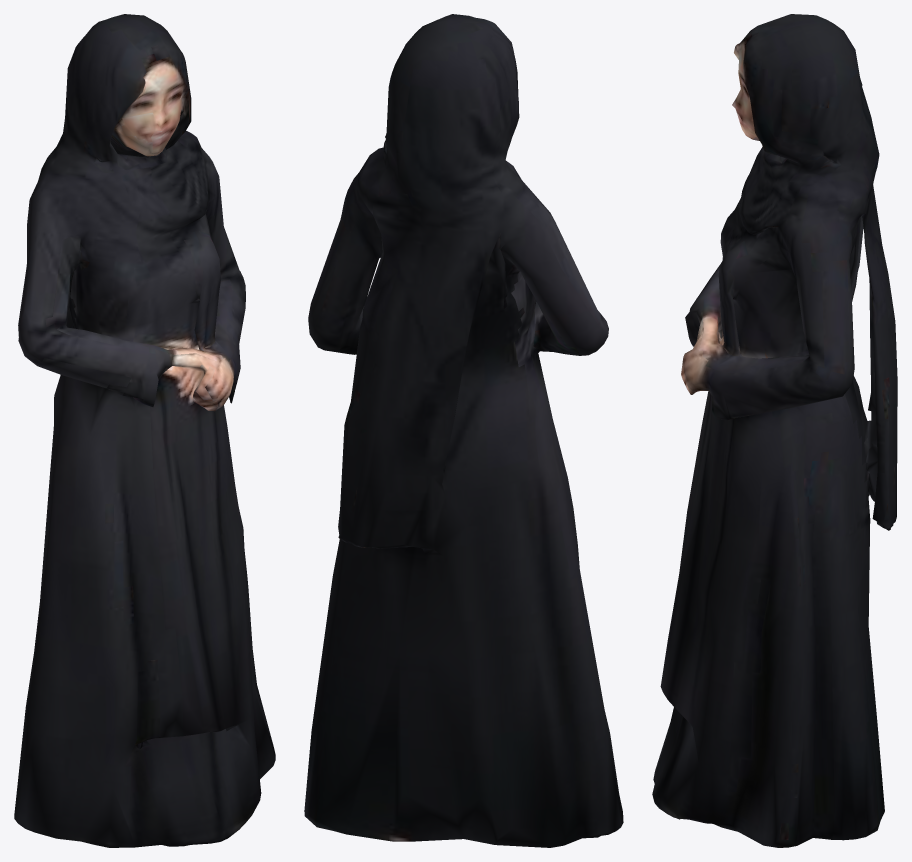
The model's file is c_woman.glb.
3 views of the same model, side by side, from view 1: azimuth 30°, elevation 25°; view 2: azimuth 150°, elevation 25°; view 3: azimuth 270°, elevation 25° (orthographic). The views are drawn at different scales.
Parts seen in each view (by area): view 1: Object_3; view 2: Object_3; view 3: Object_3.
Boxes of the visible parts, x1,y1,x2,y2 form: Object_3: (14, 14, 275, 847); Object_3: (304, 14, 623, 847); Object_3: (652, 14, 897, 847).
Bounding box in the file's own units: 0.72 × 2 × 0.5697.
1 material, 1 textured.
